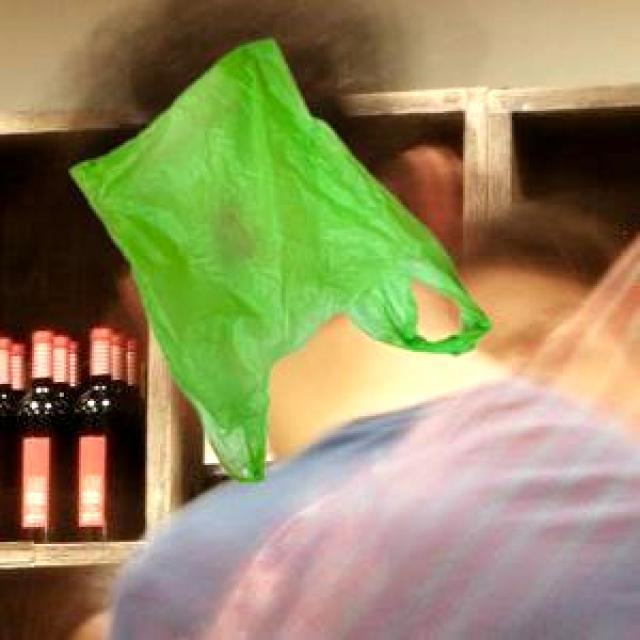Plastic_Bag: (67, 37, 488, 479)
